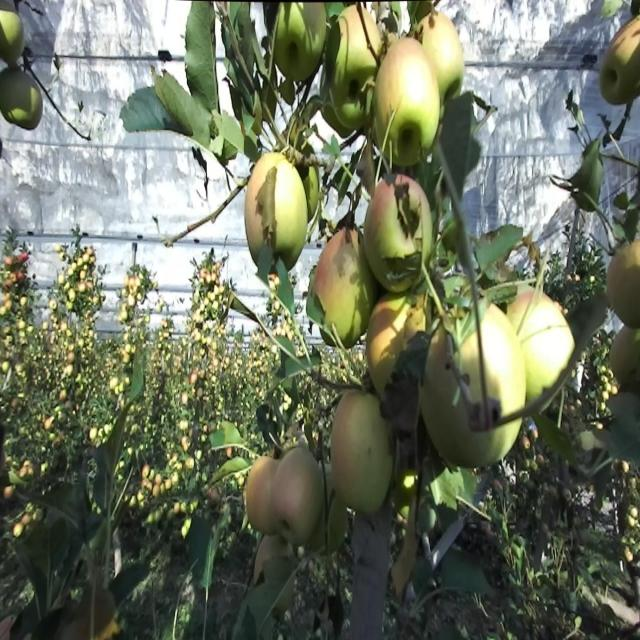apple: (420, 327, 521, 466), (312, 227, 380, 363), (376, 35, 443, 171), (332, 390, 393, 523), (508, 284, 576, 402), (248, 150, 316, 268), (360, 175, 426, 283), (274, 447, 323, 548), (481, 304, 526, 413), (360, 177, 409, 268), (272, 6, 327, 87), (276, 156, 311, 267), (420, 13, 464, 100), (368, 298, 410, 388), (340, 6, 382, 87), (604, 241, 640, 329), (324, 65, 366, 140), (244, 454, 279, 537), (0, 70, 40, 128), (612, 20, 640, 85), (612, 326, 640, 388), (600, 49, 628, 110), (460, 331, 481, 402), (0, 13, 26, 69), (276, 228, 307, 272), (408, 291, 433, 336), (396, 461, 419, 508), (280, 77, 298, 107), (0, 618, 12, 639)
